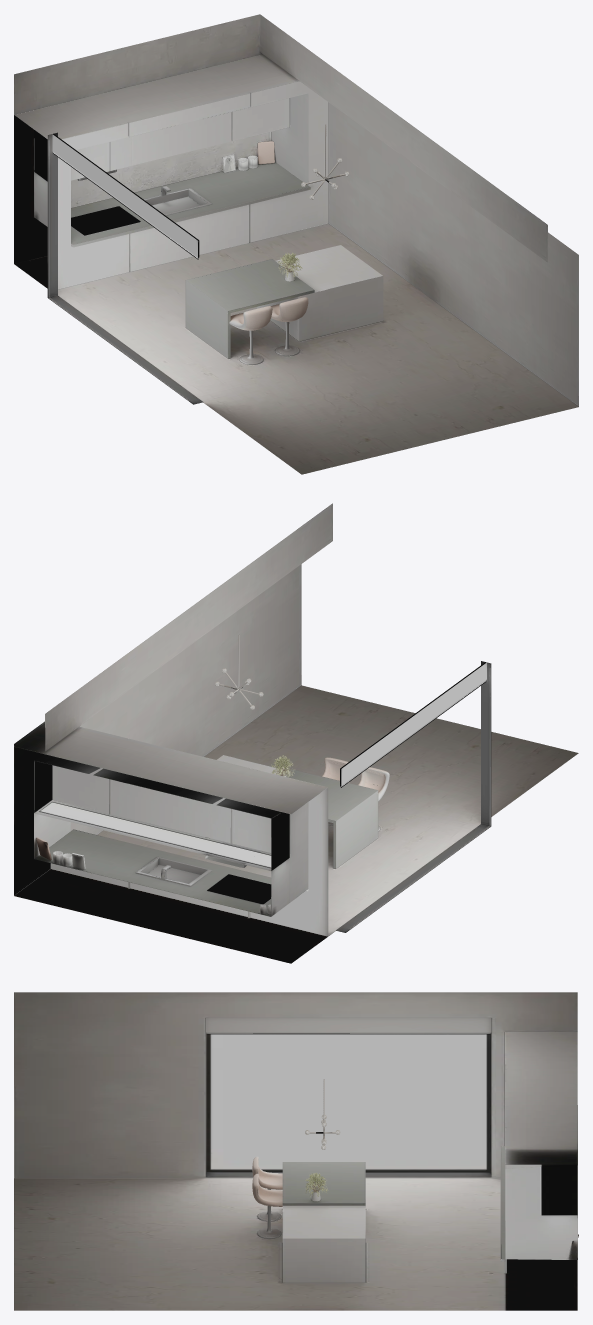
3 views of the same model, one above another, from view 1: azimuth 30°, elevation 25°; view 2: azimuth 150°, elevation 25°; view 3: azimuth 270°, elevation 25° (orthographic). The views are drawn at different scales.
Parts seen in each view (by area): view 1: Small Modern Kitchen; view 2: Small Modern Kitchen; view 3: Small Modern Kitchen, Plant.
Boxes of the visible parts, x1,y1,x2,y2 form: Small Modern Kitchen: [14, 14, 578, 474]; Small Modern Kitchen: [14, 503, 578, 963]; Small Modern Kitchen: [14, 992, 578, 1310]; Plant: [305, 1173, 328, 1201].
Bounding box in the file's own units: 5.58 × 3.5 × 9.63.
12 materials, 12 textured.
